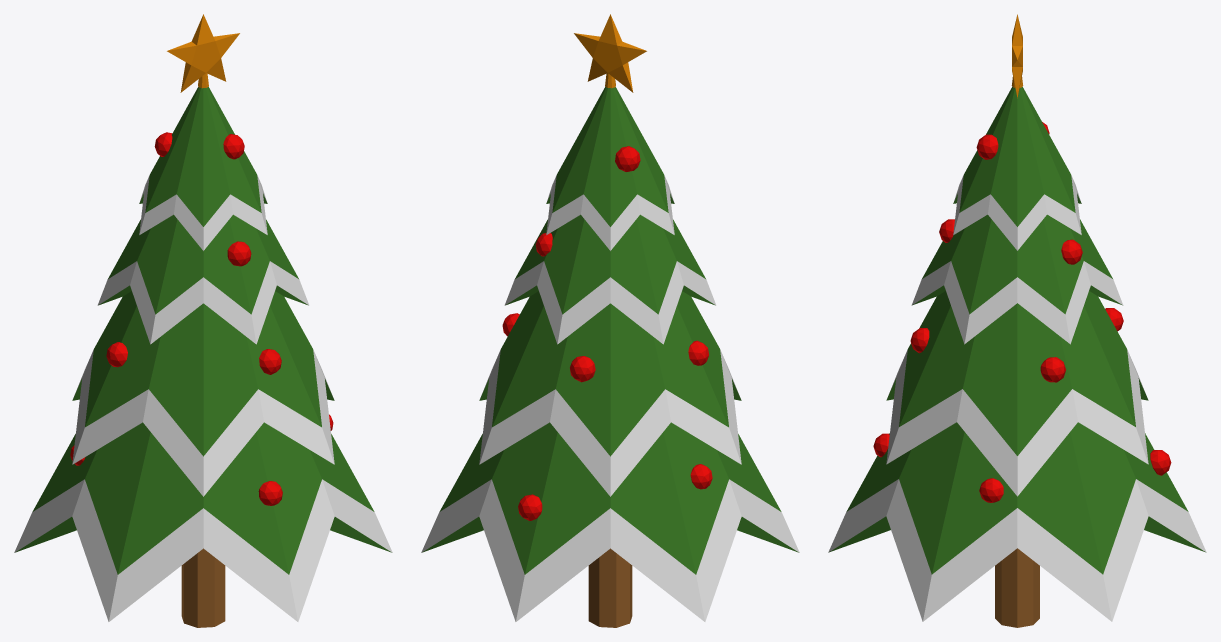
File: Christmas Tree.fbx
3 renders of one model, left to right at view 1: azimuth 30°, elevation 25°; view 2: azimuth 150°, elevation 25°; view 3: azimuth 270°, elevation 25°, orthographic.
Parts seen in each view (by area): view 1: Christmas Tree; view 2: Christmas Tree; view 3: Christmas Tree.
Part boxes in pixels (x1,y1,x2,y2): Christmas Tree: (14,14,392,627); Christmas Tree: (421,14,799,627); Christmas Tree: (828,14,1206,627).
Size of the model in its own units: 72.75 by 148 by 84.
